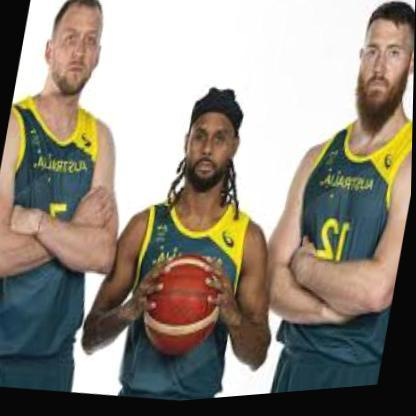basketball: (136, 249, 230, 366)
